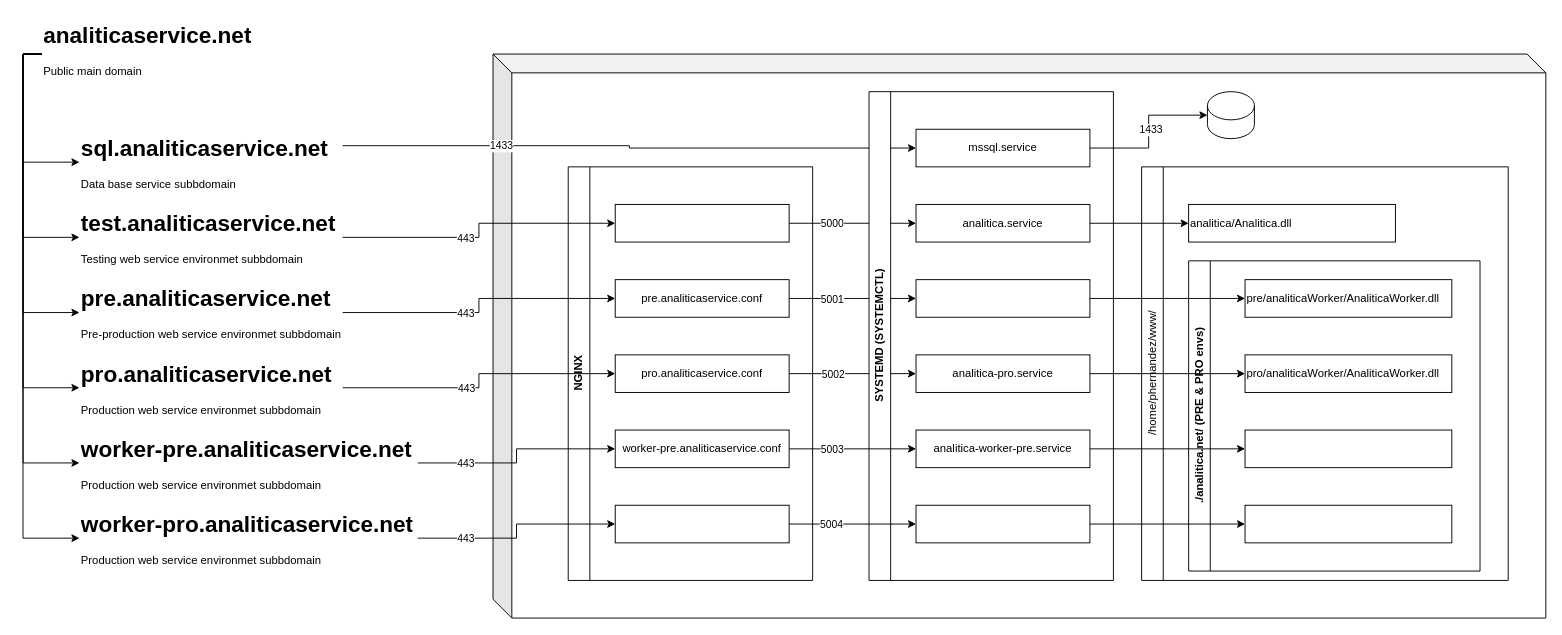
The diagram is 1562 pixels wide and 635 high, and some of its shapes have lost their labels. The shapes that lost their labels are listed below. From the top down, each one's centre as x and y in pixels, then its label:
At (x=1230, y=115): "MSSQL".
At (x=701, y=223): "test.analiticaservice.conf".
At (x=1002, y=298): "analitica-pre.service".
At (x=1348, y=448): "pre/analitica/Analitica.dll".
At (x=701, y=523): "worker-pro.analiticaservice.conf".
At (x=1002, y=523): "analitica-worker-pro.service".
At (x=1348, y=523): "pro/analitica/Analitica.dll".
